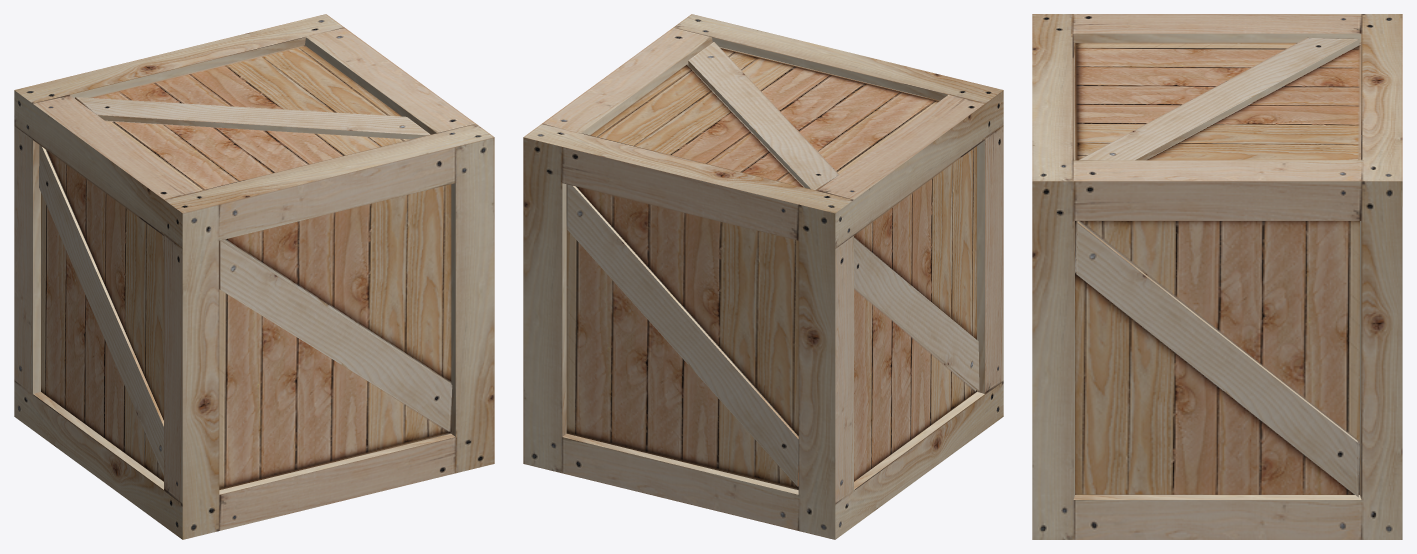
The model's file is Box Wood.fbx.
3 renders of one model, left to right at view 1: azimuth 30°, elevation 25°; view 2: azimuth 150°, elevation 25°; view 3: azimuth 270°, elevation 25°, orthographic. The views are drawn at different scales.
Parts seen in each view (by area): view 1: Box Wood; view 2: Box Wood; view 3: Box Wood.
Part boxes in pixels (x1,y1,x2,y2): Box Wood: (14,14,494,539); Box Wood: (523,14,1003,539); Box Wood: (1032,14,1402,539).
Bounding box in the file's own units: 128 × 128 × 120.
1 material, 1 textured.
